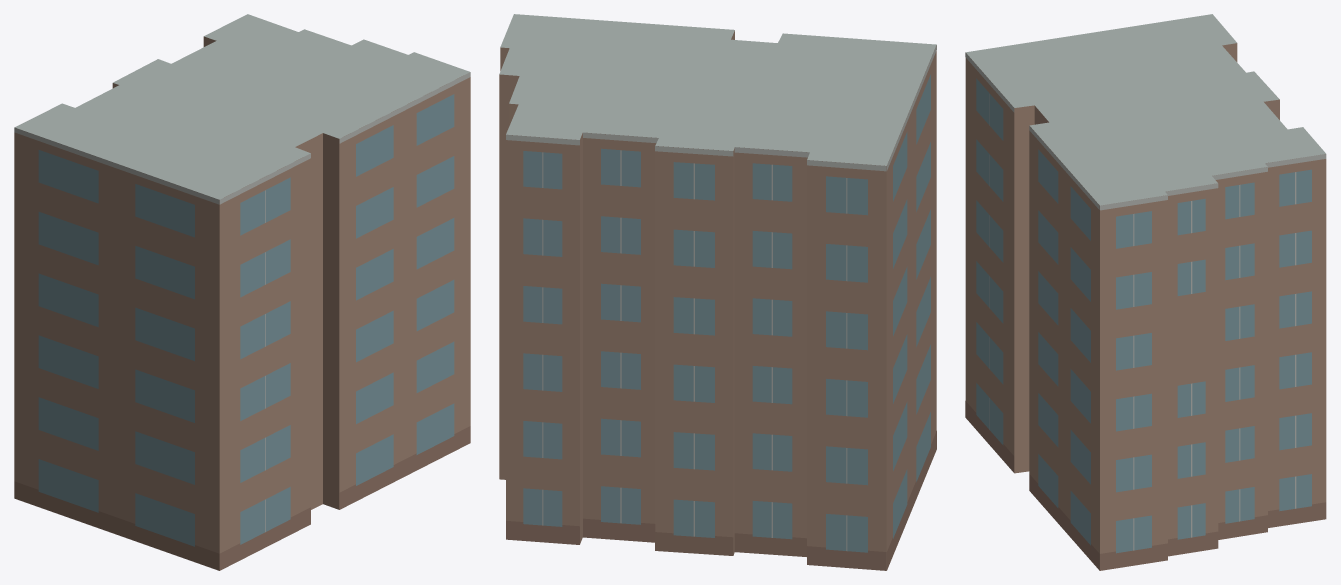
Rendered from survey-upis-32990912.glb.
The picture shows the model from 3 angles, left to right: view 1: azimuth 30°, elevation 25°; view 2: azimuth 150°, elevation 25°; view 3: azimuth 270°, elevation 25°; orthographic projection. The views are drawn at different scales.
Visible parts, largest first — view 1: survey-upis-32990912.tmp; view 2: survey-upis-32990912.tmp; view 3: survey-upis-32990912.tmp.
Part boxes in pixels (x1,y1,x2,y2): survey-upis-32990912.tmp: (14,14,470,570); survey-upis-32990912.tmp: (499,14,936,570); survey-upis-32990912.tmp: (965,14,1326,570).
Size of the model in its own units: 20.48 by 18.2 by 16.31.
